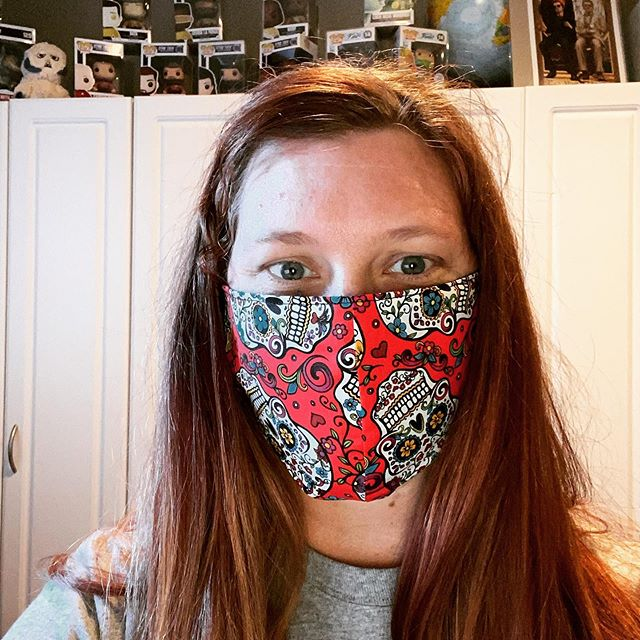homemade: (211, 281, 484, 505)
